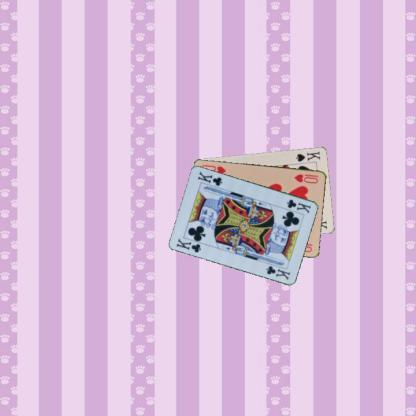10h: (292, 170, 320, 184)
Kc: (174, 235, 203, 254), (284, 196, 312, 215)
Ks: (293, 148, 322, 162)
